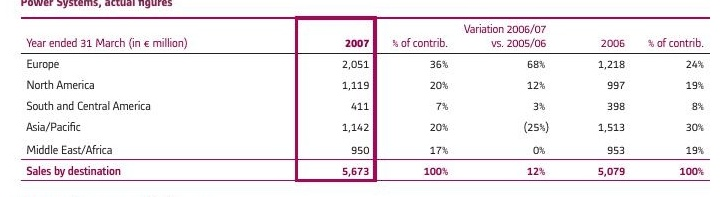table: (0, 0, 725, 197)
